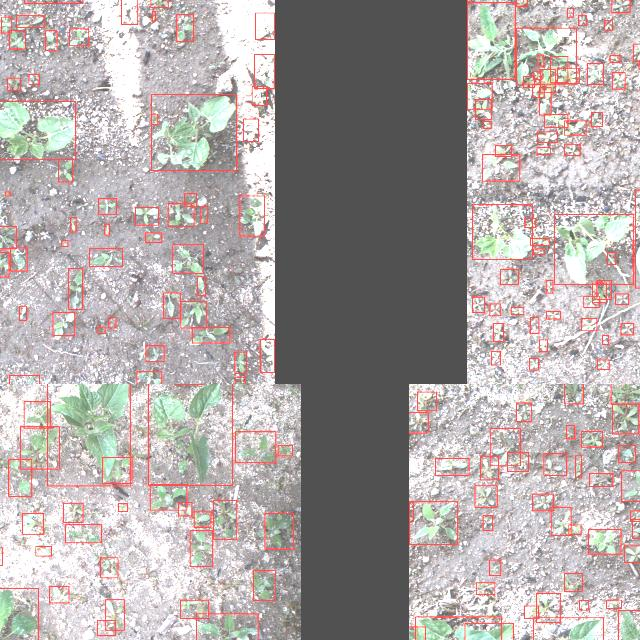crop: (147, 384, 232, 485), (46, 384, 129, 485), (151, 94, 237, 170), (554, 214, 632, 284), (0, 101, 75, 159), (471, 204, 531, 258), (415, 616, 501, 640), (0, 588, 37, 640), (533, 617, 603, 640), (463, 622, 512, 640)
weed: (466, 1, 514, 78), (515, 27, 575, 83), (409, 500, 457, 543), (196, 612, 258, 640), (20, 426, 58, 468), (235, 431, 275, 462), (264, 512, 294, 548), (490, 428, 520, 464), (150, 483, 187, 509), (240, 195, 264, 235), (213, 499, 237, 539), (482, 154, 518, 180), (172, 244, 204, 272), (8, 458, 30, 496), (588, 528, 620, 554), (190, 530, 212, 566), (102, 457, 132, 483), (612, 403, 638, 433), (180, 300, 206, 328), (536, 592, 560, 622), (254, 54, 274, 88), (466, 82, 492, 108), (23, 401, 49, 427), (253, 570, 275, 600), (65, 524, 101, 542), (620, 469, 640, 500), (88, 248, 122, 266), (550, 506, 570, 536), (168, 202, 194, 225), (105, 599, 124, 629), (610, 384, 640, 403), (68, 268, 82, 308), (434, 458, 468, 474), (192, 328, 230, 342), (180, 600, 208, 618), (176, 14, 194, 41), (52, 312, 74, 334), (544, 453, 566, 475), (260, 338, 274, 372), (162, 292, 180, 318), (256, 12, 274, 38), (22, 512, 42, 534), (474, 486, 496, 506), (134, 206, 158, 224), (480, 455, 498, 479), (507, 451, 528, 471), (550, 56, 566, 82), (62, 502, 82, 522), (121, 0, 137, 24), (539, 68, 555, 92), (416, 392, 436, 411), (563, 384, 582, 403), (68, 28, 88, 46), (99, 557, 117, 577), (409, 412, 427, 432), (10, 248, 26, 270), (586, 62, 602, 84), (580, 430, 602, 446), (0, 225, 15, 248), (532, 494, 552, 511), (58, 158, 72, 182), (15, 15, 43, 27), (136, 371, 161, 384), (564, 573, 582, 591), (618, 444, 636, 462), (474, 99, 490, 119), (48, 586, 68, 602), (538, 88, 550, 114), (244, 118, 258, 140), (563, 120, 585, 134), (556, 68, 578, 82), (590, 472, 612, 486), (98, 198, 116, 214), (9, 30, 25, 48), (145, 345, 163, 361), (499, 268, 517, 284), (543, 114, 567, 126), (592, 282, 606, 302), (516, 402, 530, 422), (624, 544, 640, 561), (8, 375, 38, 384), (252, 86, 266, 104), (596, 280, 610, 298), (97, 620, 115, 634), (234, 352, 246, 372), (537, 130, 557, 142), (193, 512, 210, 526), (476, 582, 494, 594), (46, 30, 56, 50), (0, 251, 8, 276), (611, 0, 629, 11), (178, 501, 192, 515), (612, 72, 624, 88), (580, 318, 596, 330), (563, 143, 579, 155), (495, 144, 511, 156), (471, 296, 483, 312), (144, 232, 162, 242), (492, 323, 502, 341), (488, 559, 499, 575), (6, 77, 20, 89), (590, 112, 602, 126), (620, 322, 634, 334), (614, 292, 628, 304), (524, 605, 538, 617), (1, 16, 11, 32), (35, 545, 51, 555), (606, 598, 622, 608), (482, 514, 492, 530), (184, 192, 196, 205), (632, 518, 640, 537), (197, 276, 205, 294), (632, 43, 640, 61), (531, 84, 543, 96), (584, 296, 598, 306), (490, 350, 500, 364), (278, 445, 292, 455), (200, 205, 208, 222), (488, 303, 499, 315), (575, 455, 581, 477), (18, 304, 26, 320), (530, 317, 538, 333), (530, 238, 548, 245), (528, 357, 538, 369), (597, 359, 609, 369), (522, 76, 534, 86), (568, 524, 580, 534), (150, 0, 167, 7), (545, 310, 559, 318), (536, 146, 550, 154), (566, 424, 574, 438), (630, 509, 640, 520), (511, 306, 524, 314), (28, 74, 38, 84), (524, 217, 534, 227), (578, 599, 588, 609), (69, 216, 75, 232), (607, 252, 615, 264), (538, 339, 546, 351), (235, 375, 245, 384), (150, 113, 158, 123), (532, 71, 542, 79), (604, 19, 612, 29), (578, 15, 586, 25), (546, 280, 552, 292), (532, 248, 544, 254), (537, 54, 543, 66), (108, 317, 115, 327), (609, 54, 619, 61), (482, 120, 490, 128), (118, 503, 126, 511), (602, 334, 608, 344), (515, 0, 526, 5), (566, 8, 572, 16), (104, 223, 108, 234), (151, 11, 155, 21), (98, 326, 104, 332), (61, 240, 67, 246), (4, 191, 10, 195)
